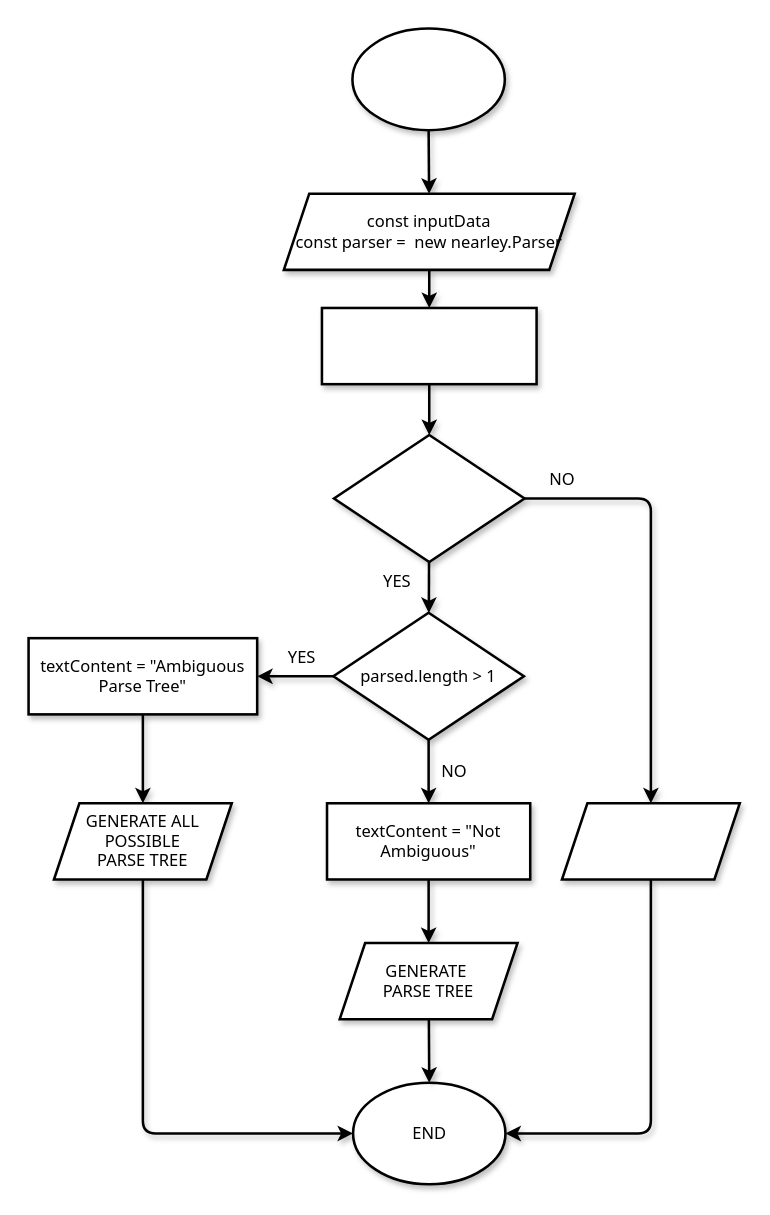
Some shapes in this 770 by 1215 pixel diagram are drawn without their labels. Each missing label, with the centre of its shape:
Display ERROR: (651,842)
is it valid?: (430,500)
parser.feed(inputData): (430,347)
START: (429,81)
